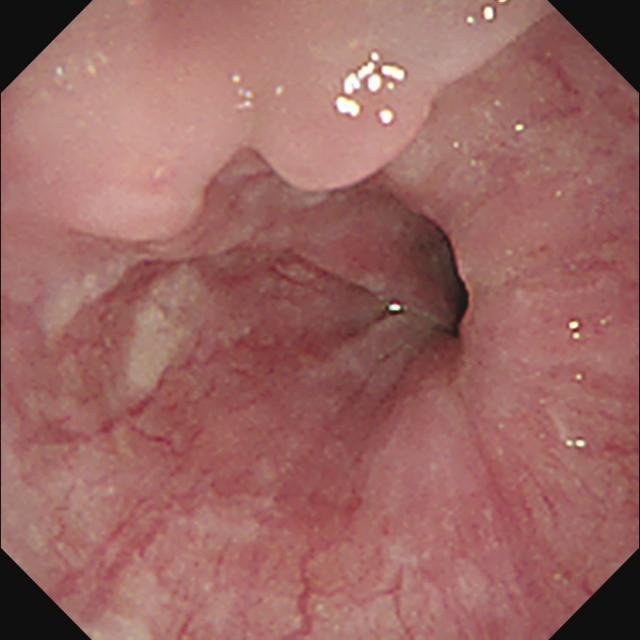A: (264, 243, 389, 376), (258, 131, 424, 207), (83, 177, 215, 250), (532, 56, 585, 123)
E: (431, 227, 476, 352)
J: (128, 266, 234, 395), (35, 262, 125, 378)
U: (334, 51, 408, 126), (463, 2, 516, 30), (227, 72, 260, 114), (556, 430, 598, 454), (560, 318, 593, 342), (384, 291, 410, 319)
